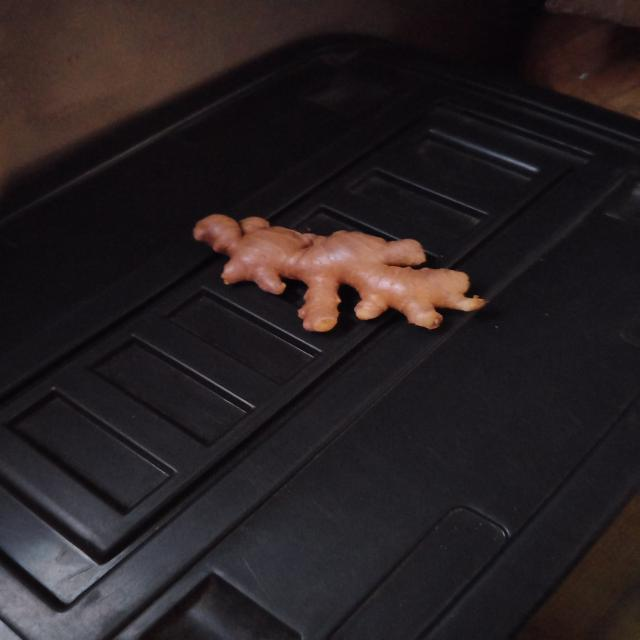ginger: (183, 192, 495, 354)
